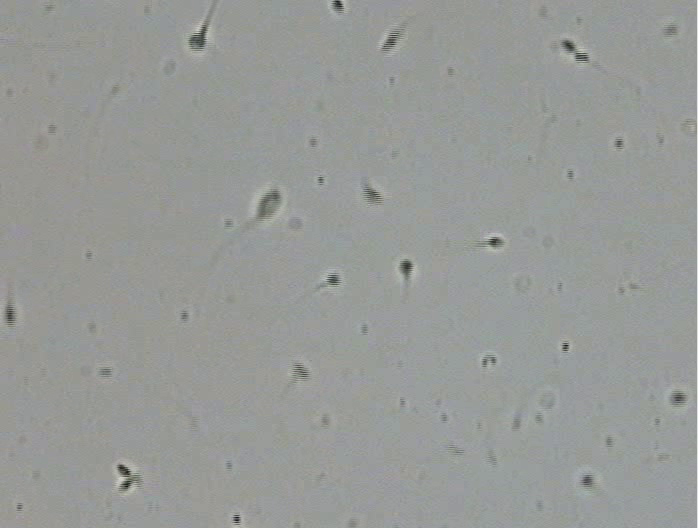S: (255, 189, 283, 223), (188, 30, 208, 51), (364, 185, 384, 205), (381, 31, 399, 52), (292, 363, 310, 381), (398, 259, 414, 276), (4, 305, 16, 327), (670, 390, 685, 407), (326, 272, 341, 287), (487, 236, 505, 248), (116, 463, 131, 477), (580, 473, 595, 487), (330, 1, 345, 15), (561, 39, 576, 52), (574, 51, 589, 64), (118, 479, 132, 492)
